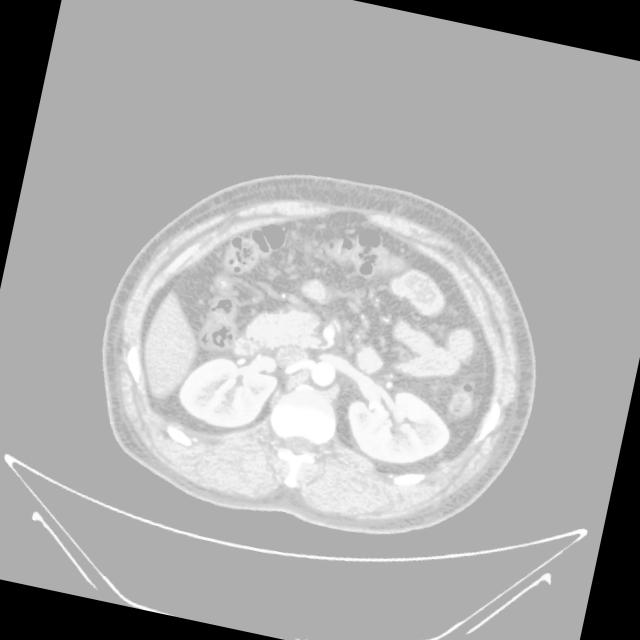NORMAL: (73, 130, 577, 572)
